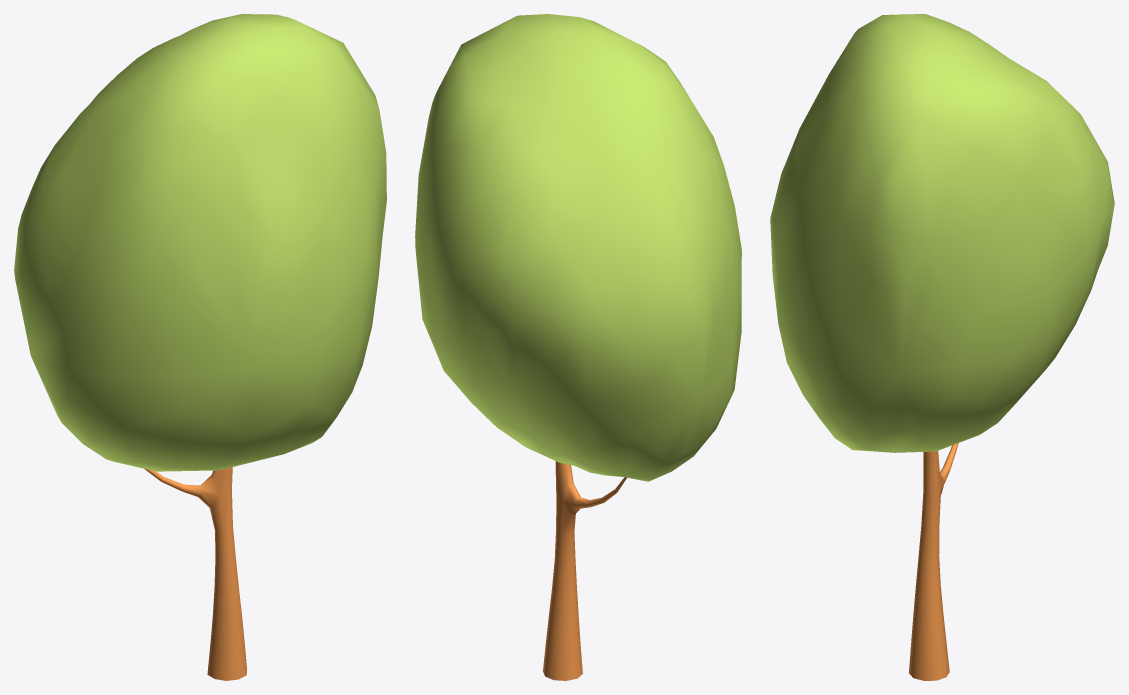
File: Tree_F.fbx
The picture shows the model from 3 angles, left to right: view 1: azimuth 30°, elevation 25°; view 2: azimuth 150°, elevation 25°; view 3: azimuth 270°, elevation 25°; orthographic projection.
Parts seen in each view (by area): view 1: Oak_Tree_m_02; view 2: Oak_Tree_m_02; view 3: Oak_Tree_m_02.
Boxes of the visible parts, box(x1,y1,x2,y2) form: Oak_Tree_m_02: box(14, 14, 386, 680); Oak_Tree_m_02: box(415, 14, 741, 680); Oak_Tree_m_02: box(770, 14, 1114, 680).
Bounding box in the file's own units: 459 × 904 × 435.
